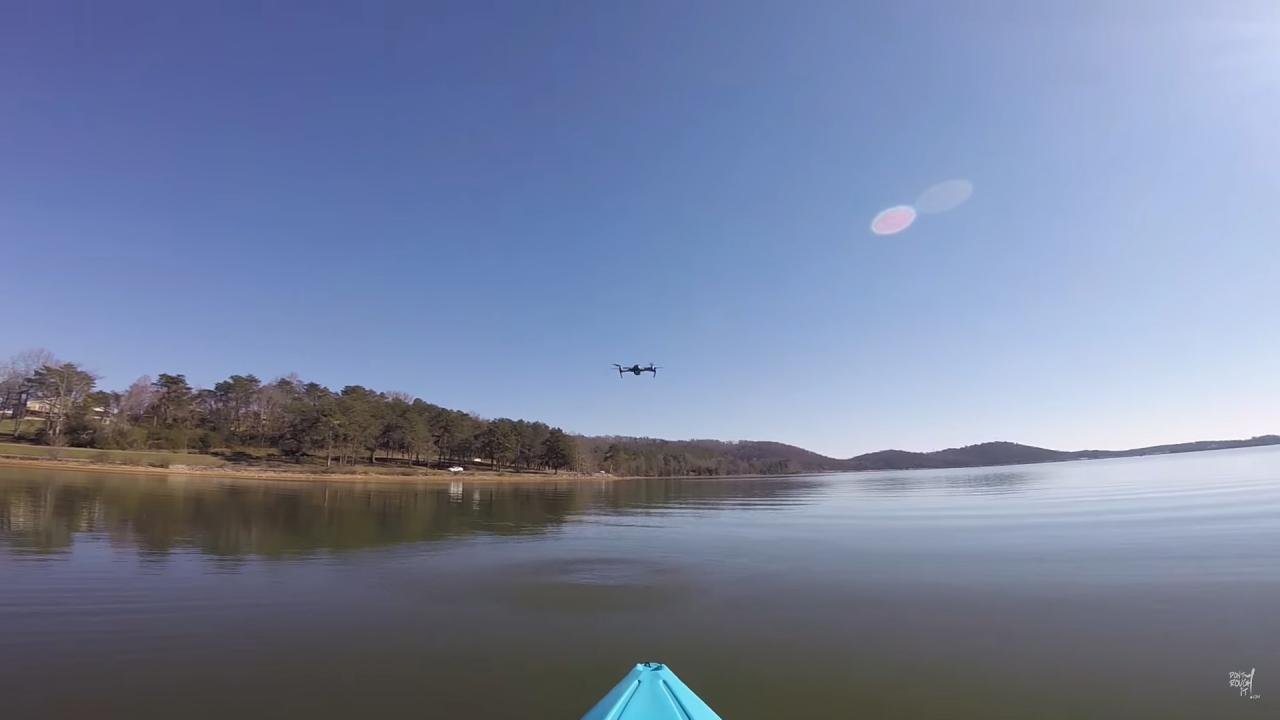Drone: (604, 349, 670, 390)
